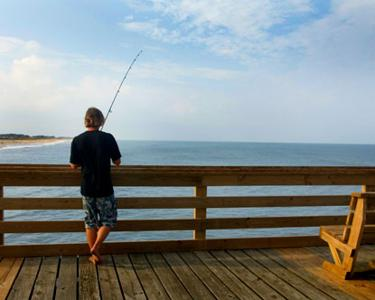person: (70, 108, 123, 265)
